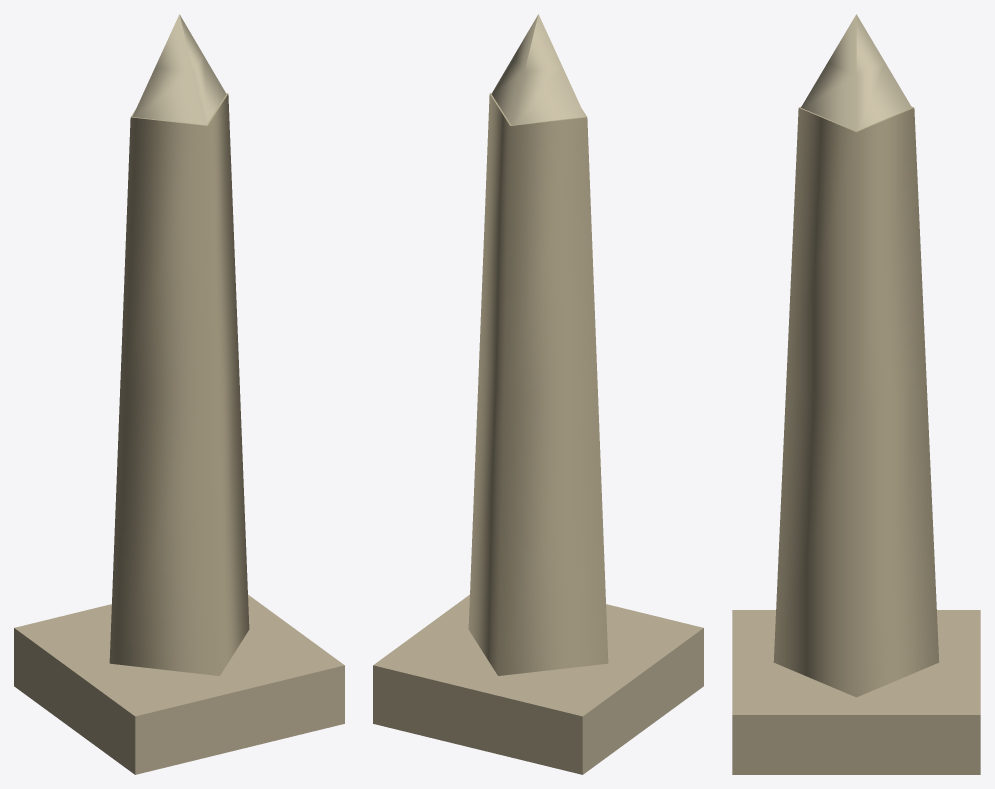
3 views of the same model, side by side, from view 1: azimuth 30°, elevation 25°; view 2: azimuth 150°, elevation 25°; view 3: azimuth 270°, elevation 25° (orthographic). The views are drawn at different scales.
Visible parts, largest first — view 1: Visual; view 2: Visual; view 3: Visual.
Part boxes in pixels (box(x1,y1,x2,y2)): Visual: box(14, 14, 344, 774); Visual: box(373, 14, 703, 774); Visual: box(732, 14, 980, 774).
Bounding box in the file's own units: 3 × 9.45 × 3.
